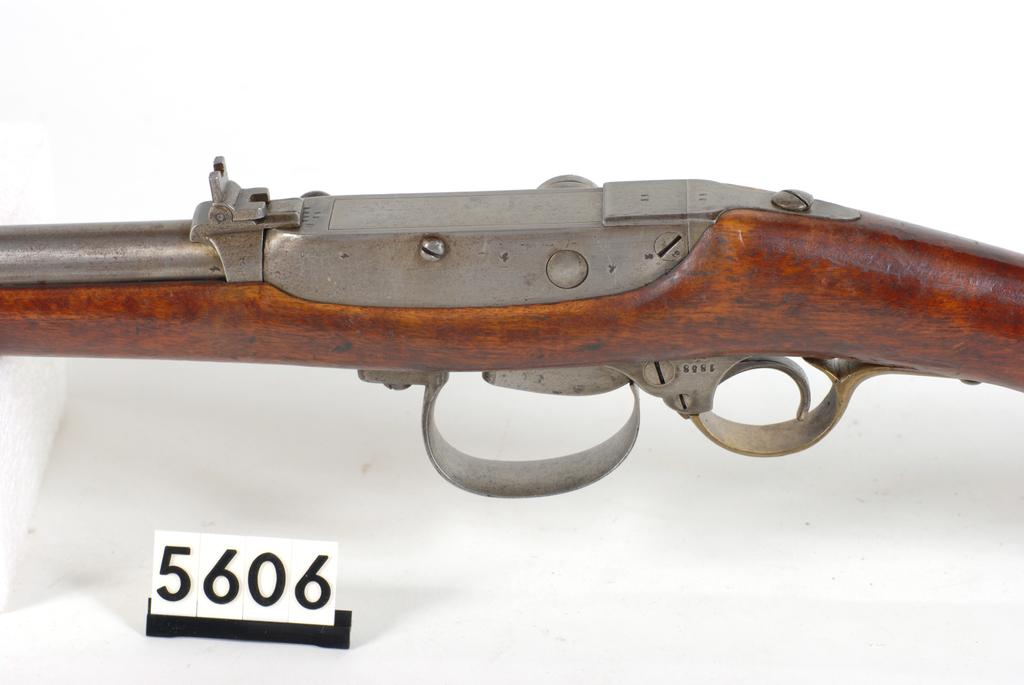Rifle: (0, 161, 1023, 497)
